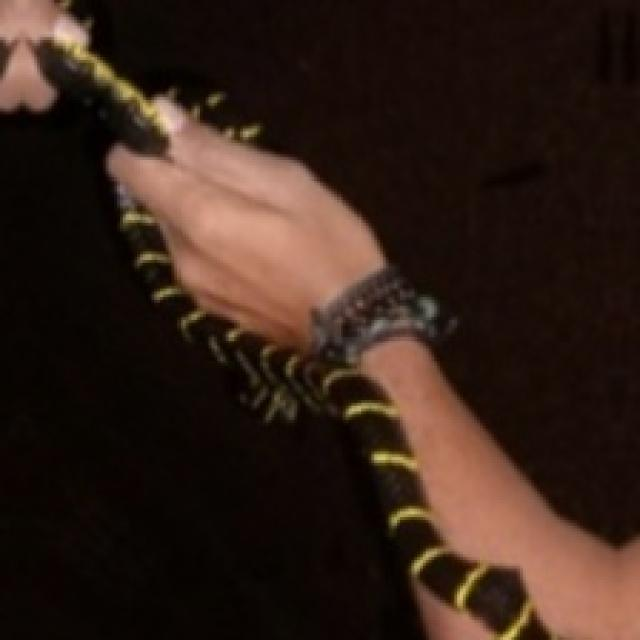mangrove cat snake: (117, 189, 551, 640), (36, 40, 168, 154), (154, 71, 264, 144)
